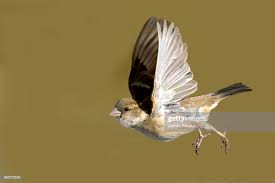hsparrow: (107, 13, 256, 159)
